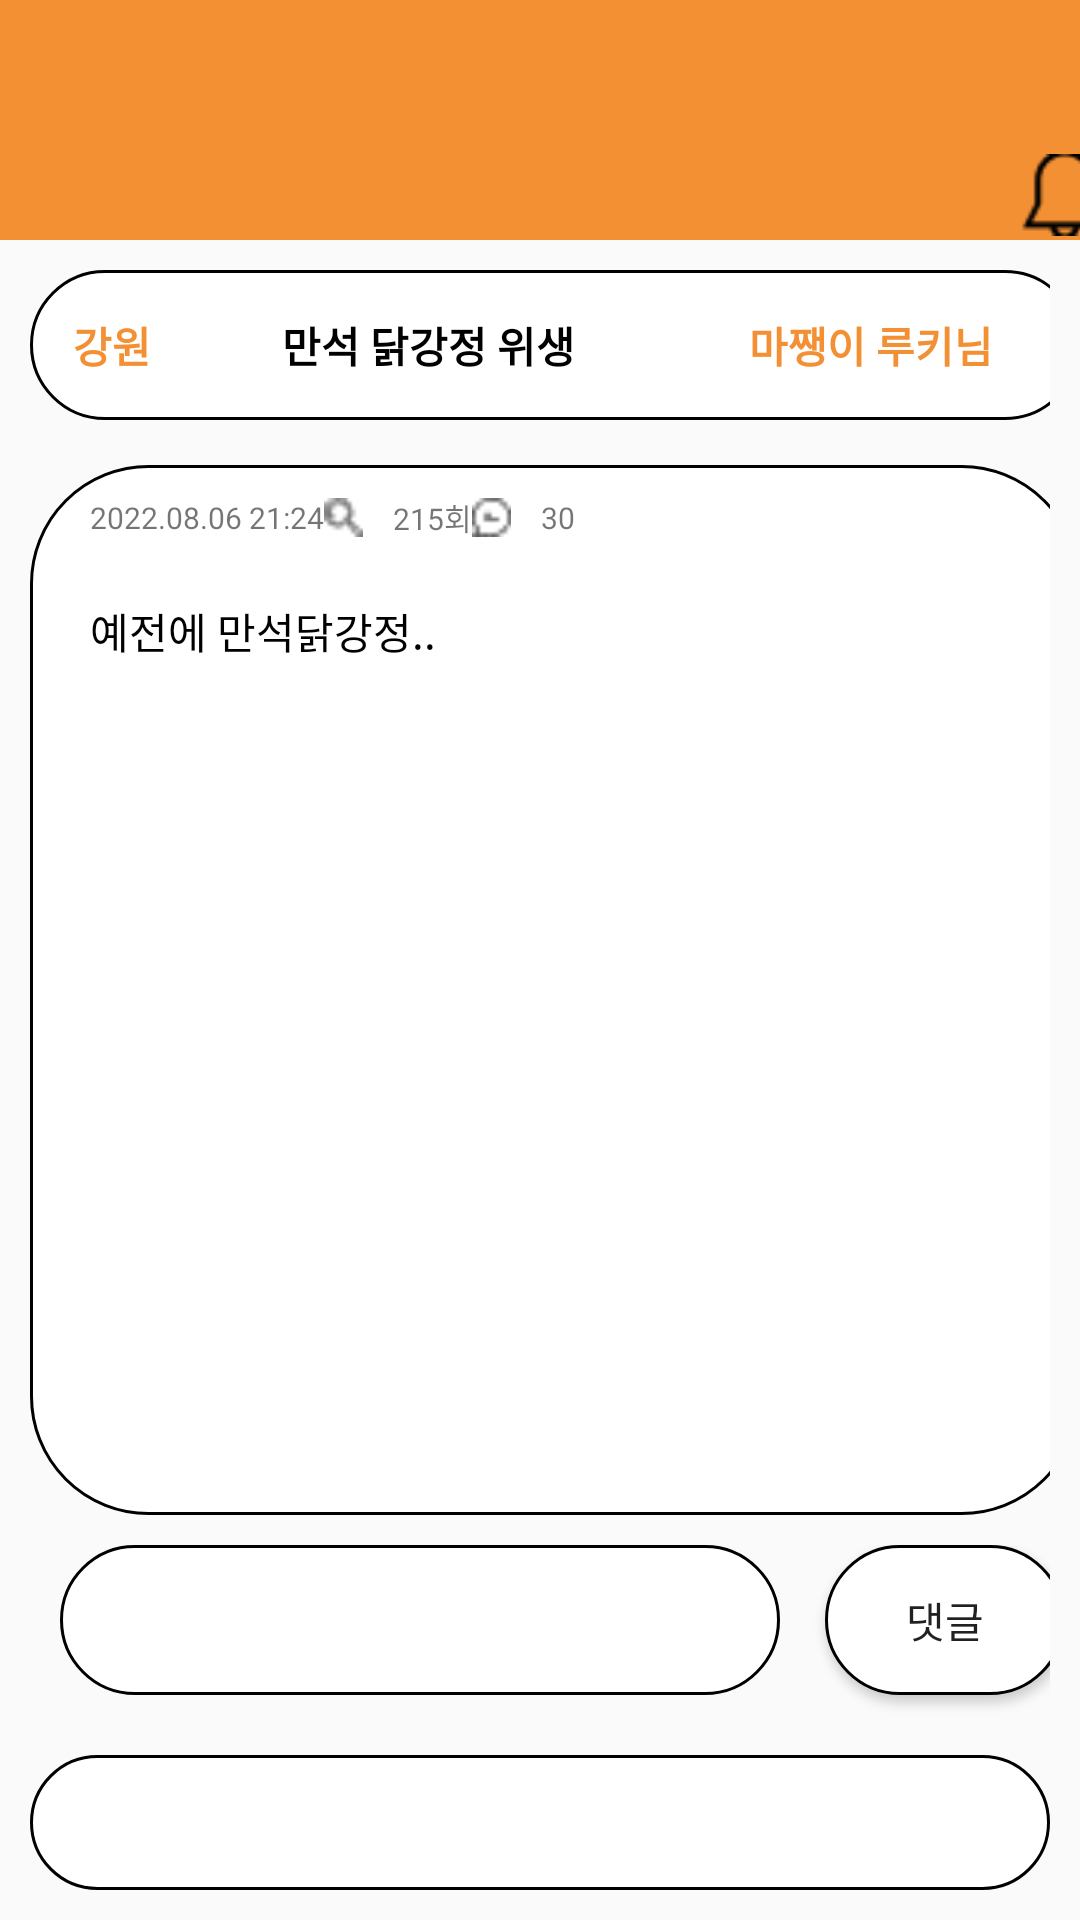

Screen size 1080 × 1920. Icon name, then its box in pixels as (x1, y1, x2, y2):
chat: (472, 498, 511, 537)
iconsearch: (324, 498, 363, 537)
